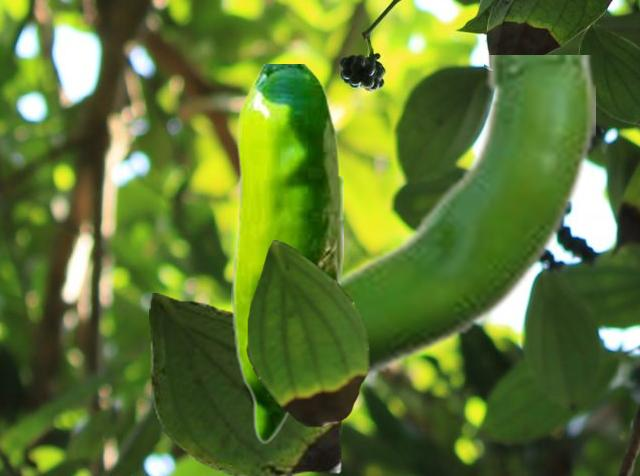green_chili: (342, 55, 594, 389), (231, 64, 342, 442)
